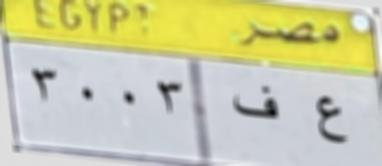0: (74, 73, 100, 108), (116, 86, 141, 114)
3: (26, 61, 65, 112), (154, 75, 186, 124)
ain: (310, 88, 349, 155)
faa: (226, 79, 286, 126)
